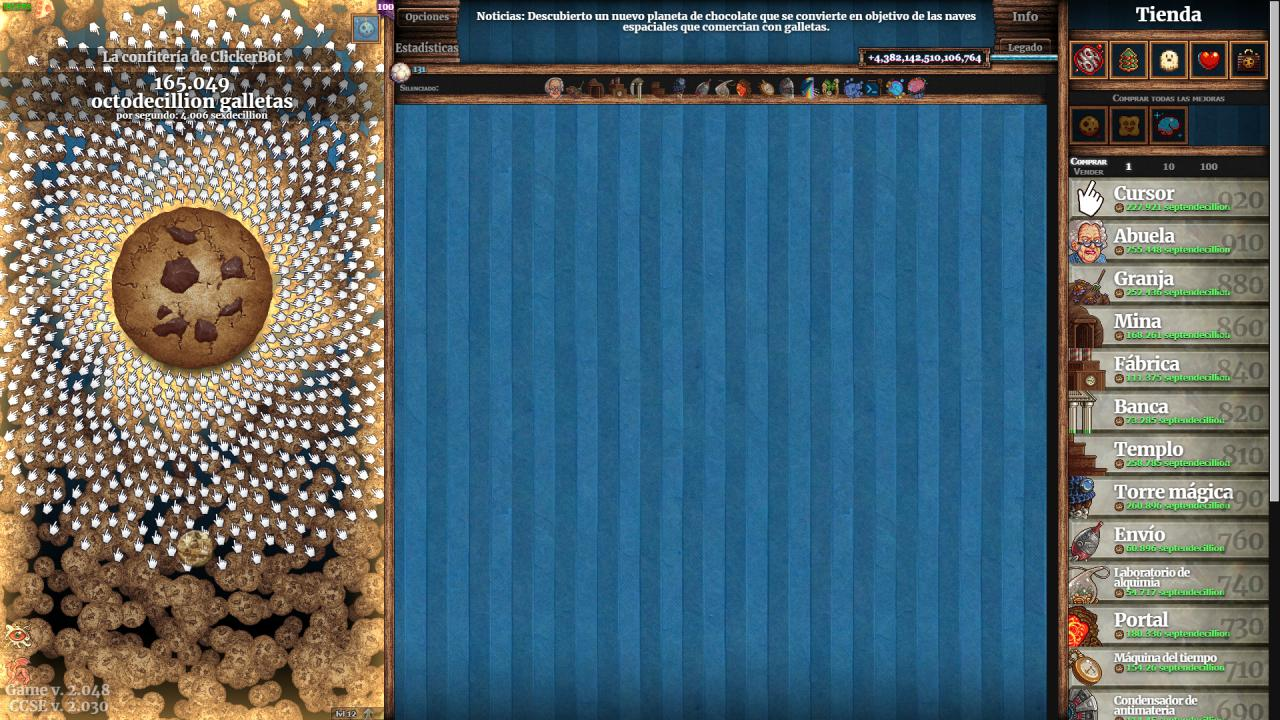GoldenCookie: (175, 530, 215, 569)
